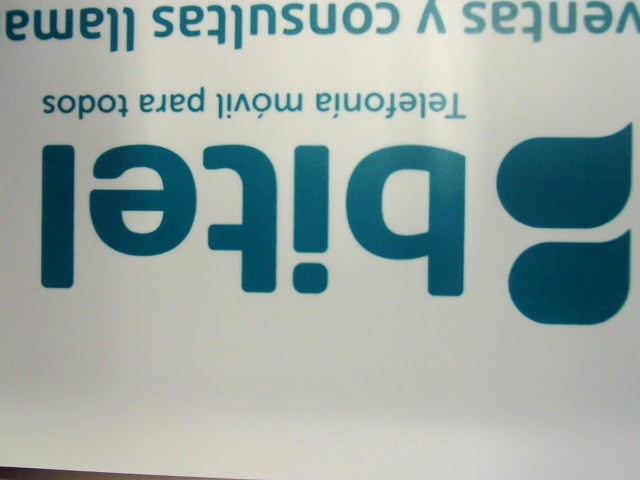BE_bitel: (24, 119, 635, 328)
